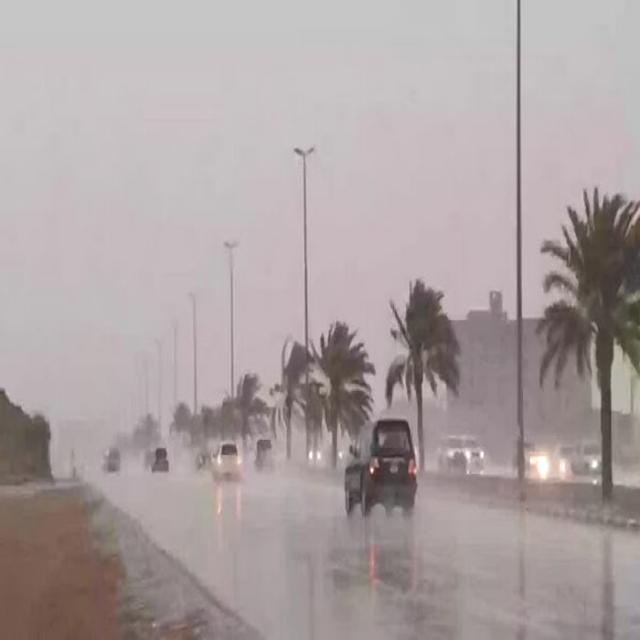Vehicle: (319, 396, 434, 527), (210, 436, 243, 491), (146, 436, 173, 481), (92, 442, 120, 482)
